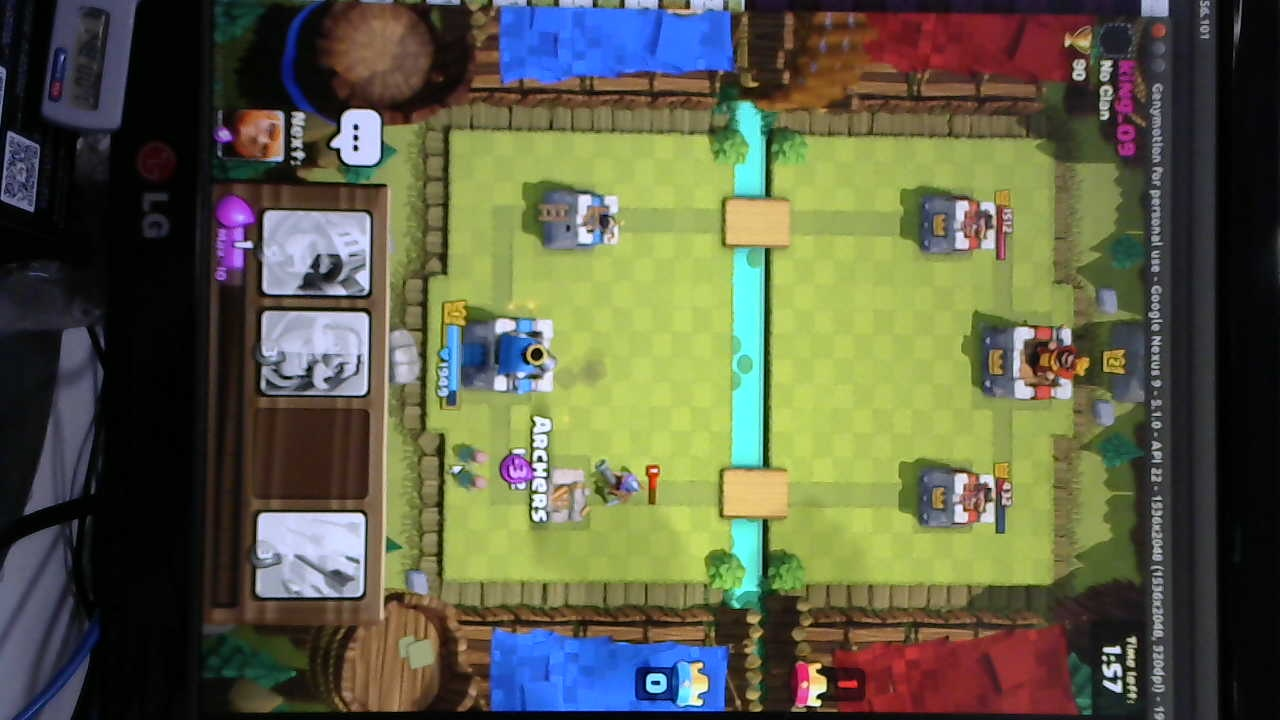arena: (547, 189, 625, 249)
darena: (544, 467, 588, 525)
earena: (918, 467, 997, 529), (925, 196, 997, 258)
eking: (982, 323, 1083, 403)
king: (470, 313, 558, 398)
musketeer: (596, 457, 642, 505)
